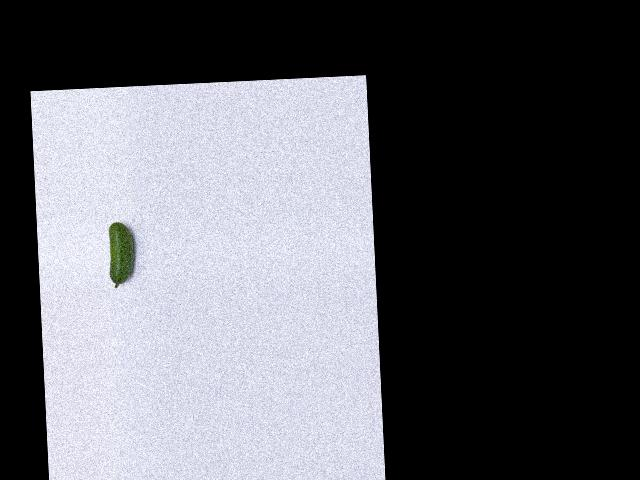cucumber: (107, 221, 135, 288)
